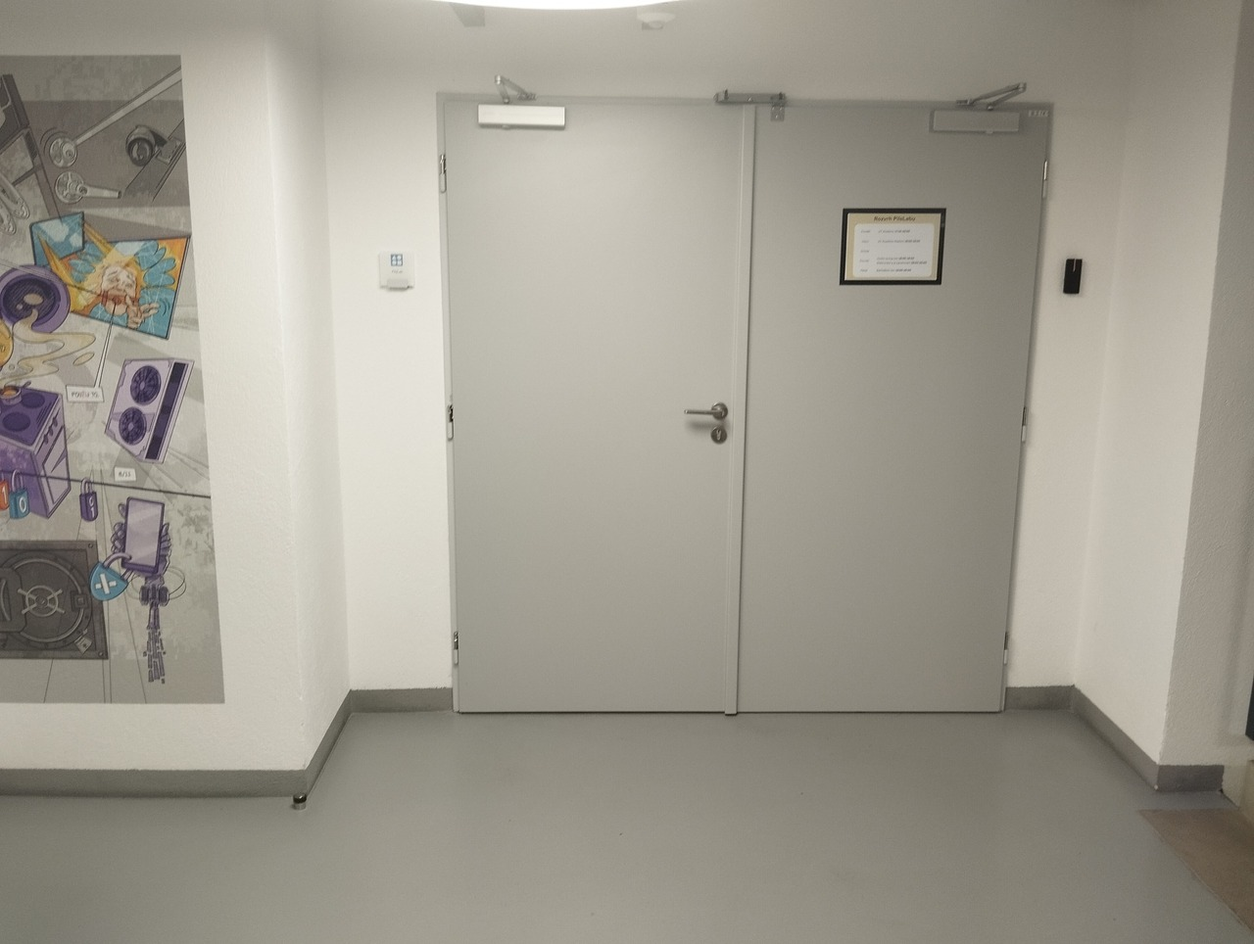Door-handle: (88, 522, 130, 600), (476, 98, 568, 130), (681, 401, 729, 446)
